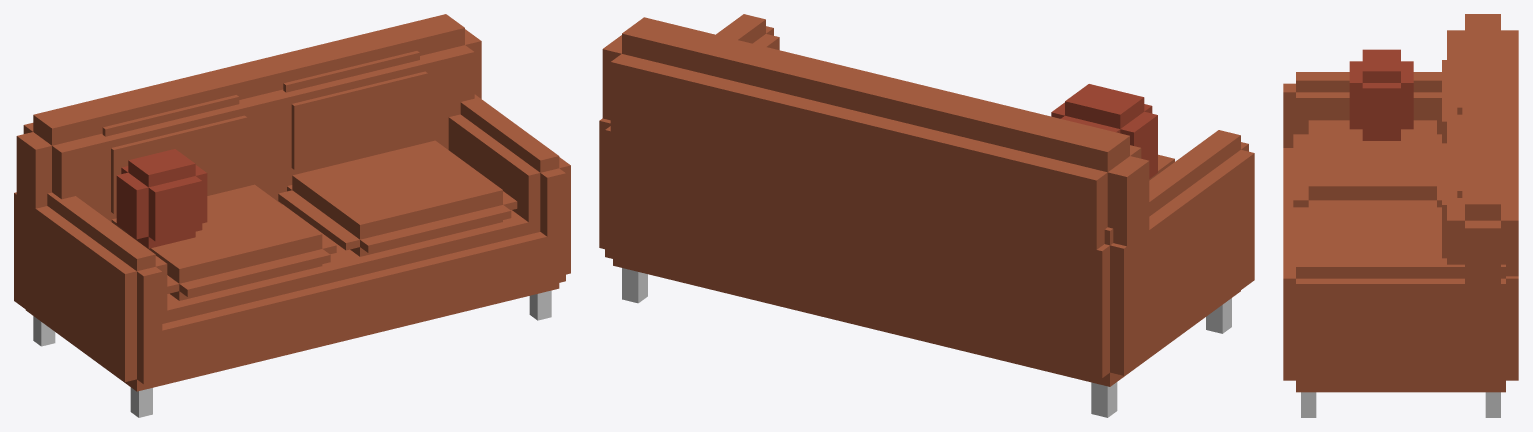
Rendered from sofa2-terracotta.glb.
3 views of the same model, side by side, from view 1: azimuth 30°, elevation 25°; view 2: azimuth 150°, elevation 25°; view 3: azimuth 270°, elevation 25° (orthographic). The views are drawn at different scales.
Visible parts, largest first — view 1: sofa2-terracotta; view 2: sofa2-terracotta; view 3: sofa2-terracotta.
Part boxes in pixels (x1,y1,x2,y2): sofa2-terracotta: (14,14,570,417); sofa2-terracotta: (599,14,1254,417); sofa2-terracotta: (1283,14,1518,417).
Bounding box in the file's own units: 2.19 × 1.06 × 1.06.
